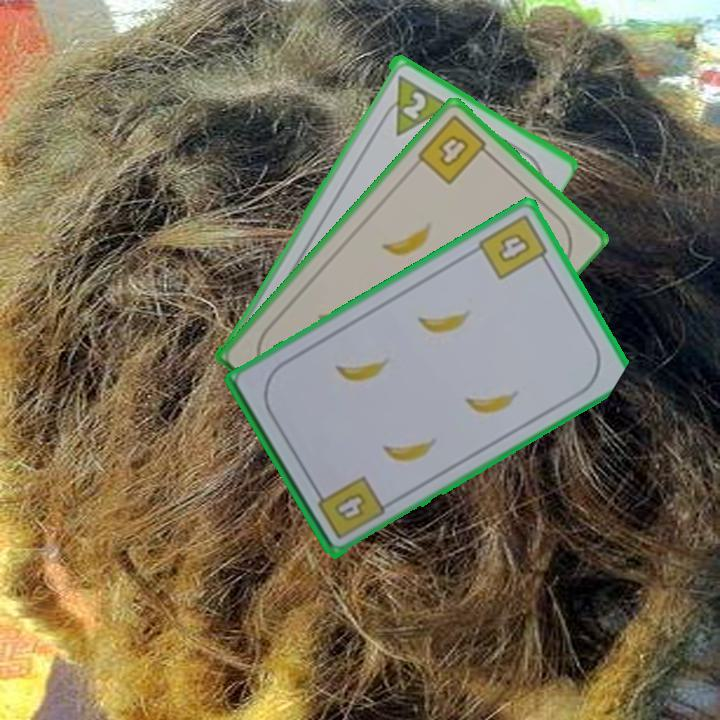2p: (375, 69, 451, 138)
4b: (413, 111, 496, 187), (474, 210, 554, 283), (334, 490, 370, 521)
